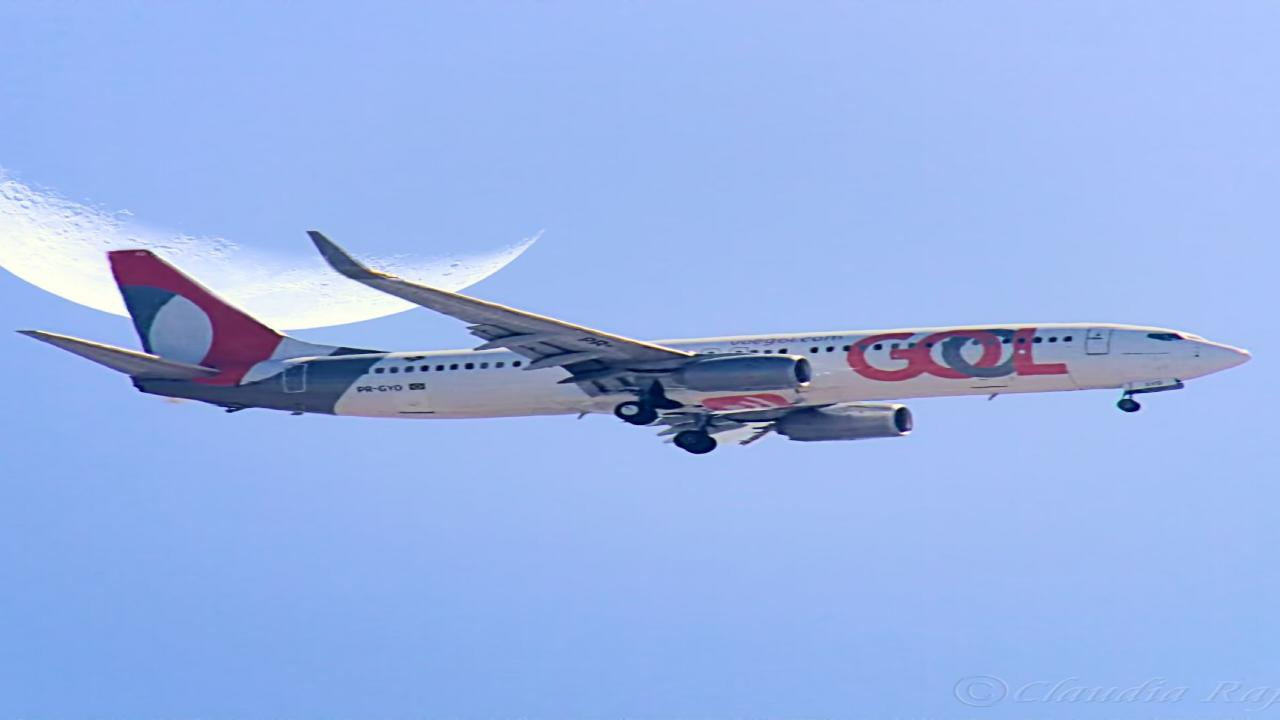Airplane: (8, 223, 1271, 467)
